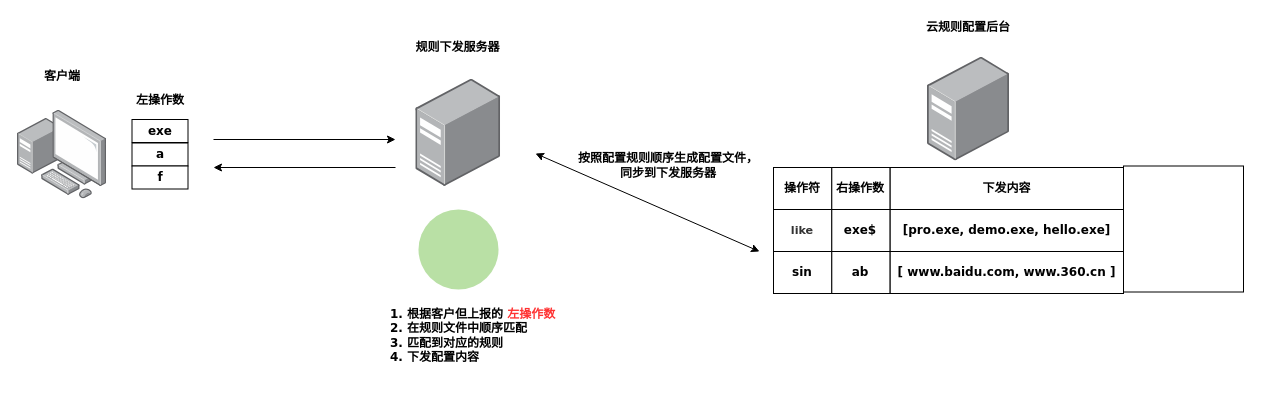
This 1261x395 diagram has some shape labels left out. The shapes that lost their labels are listed below. From the top down, each one's centre as x and y in pixels, then its label:
[1183,228]: 其他限制条件： 1. 比例 2. 客户端版本号 3. 地域
[458,249]: 匹配引擎
